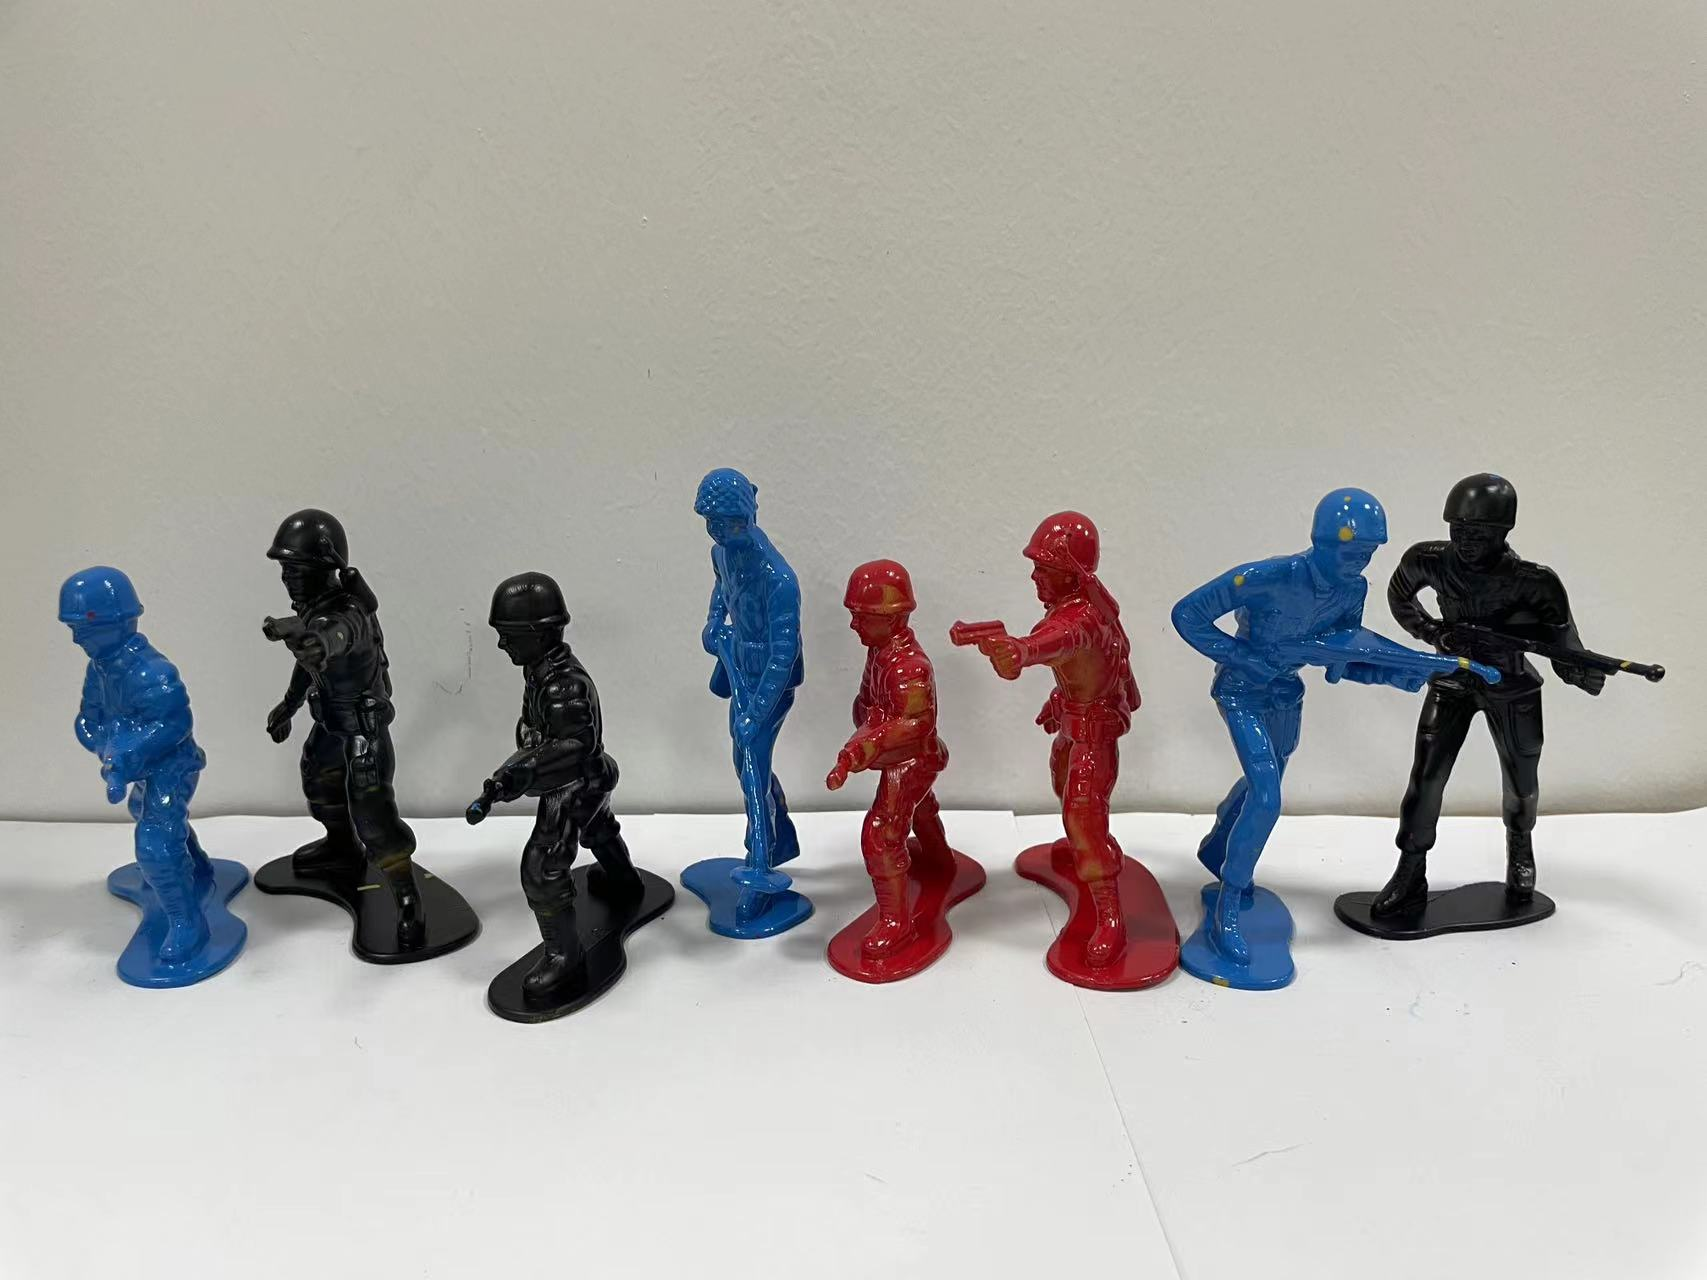black: (1376, 442, 1668, 1004), (247, 481, 484, 1014), (457, 541, 685, 1035)
blue: (1179, 484, 1401, 1014), (34, 536, 253, 1038), (676, 428, 829, 963)
red: (958, 481, 1185, 1043), (810, 528, 988, 1014)
